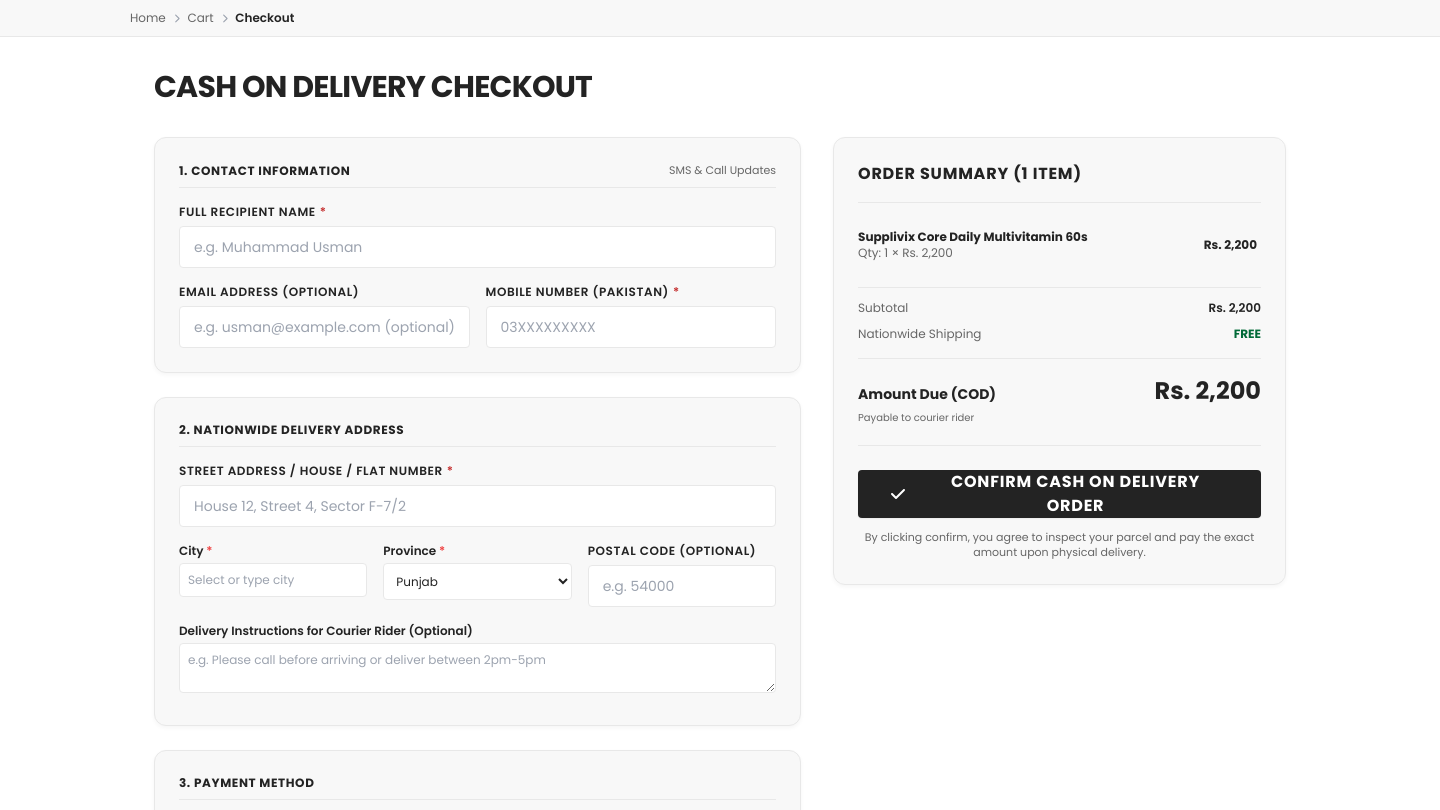
Scenario: Phase 9: Cart, Shipping, Coupon & COD Component Suite › COD-01 & COD-09: CheckoutPage submits order with COD notice and displays confirmation
Expected: the heading "Cash on Delivery Checkout" is shown, x1=154 y1=66 x2=592 y2=108
Fill valid checkout form
Type "Bilal Farooq" into the field labelled "Full Recipient Name*". click: (478, 247)
box: x1=179 y1=226 x2=776 y2=268
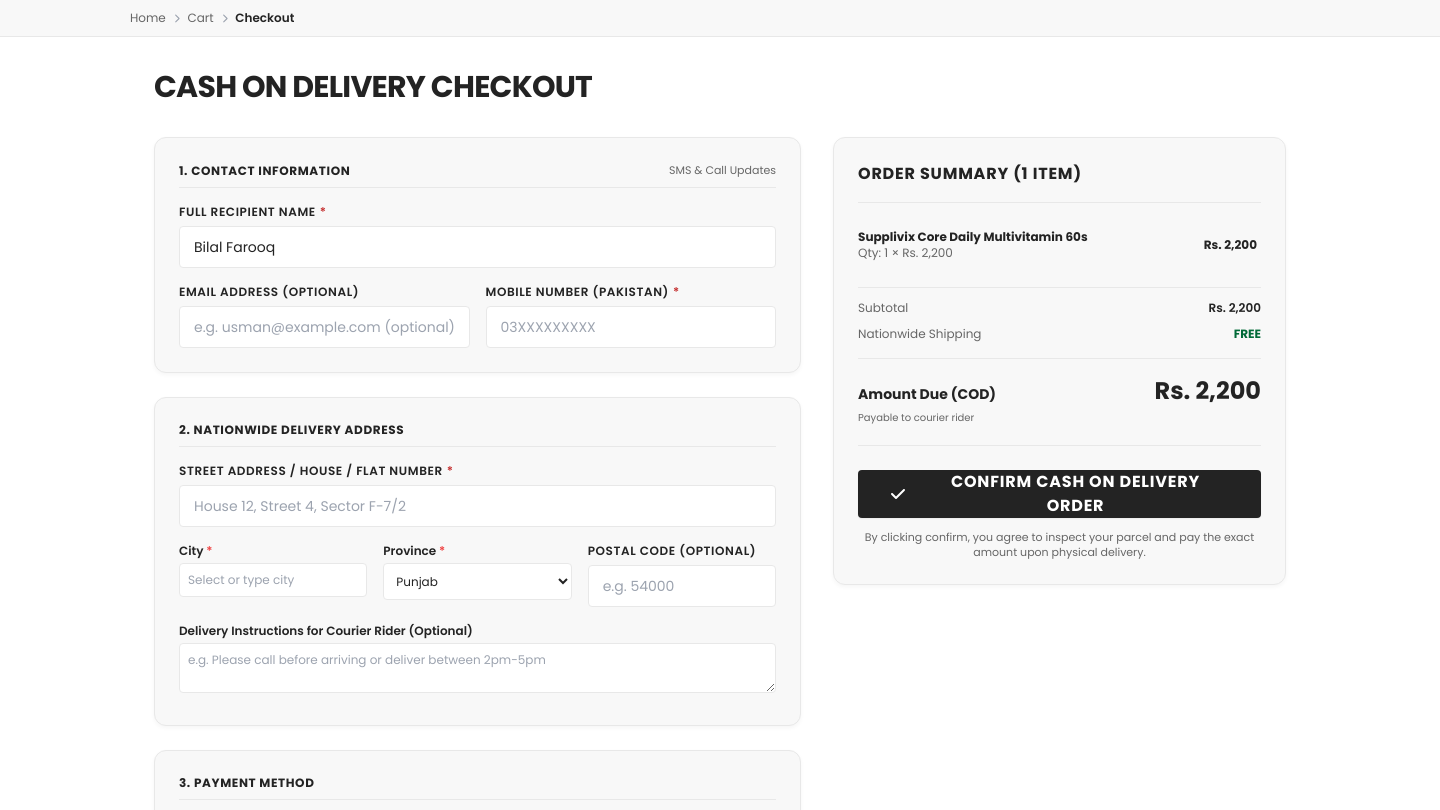
Type "bilal@example.com" into the field labelled "Email Address (Optional)". click: (324, 327)
box: x1=179 y1=306 x2=470 y2=348
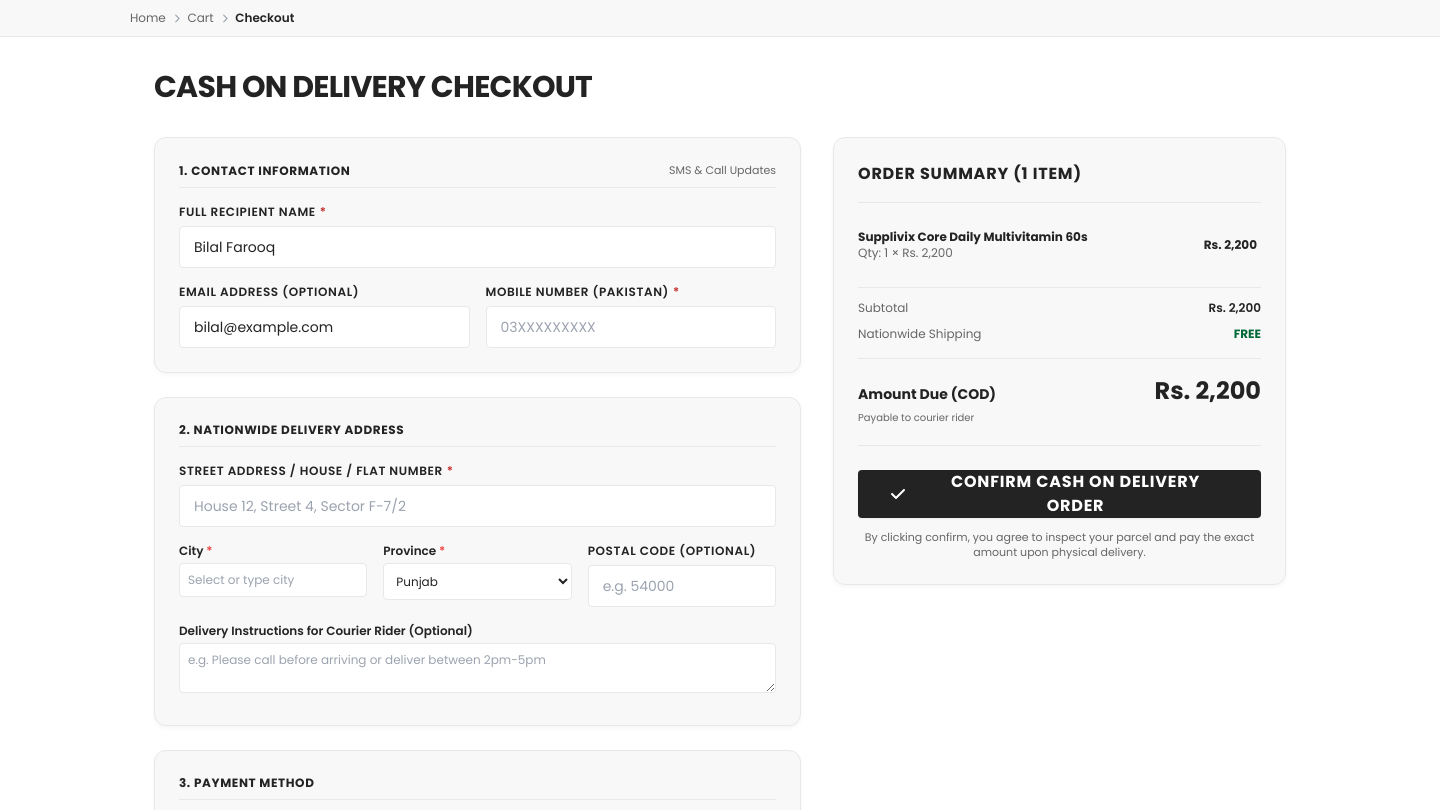
Type "03001234567" into the field labelled "Mobile Number (Pakistan)*". click: (631, 327)
box: x1=486 y1=306 x2=776 y2=348
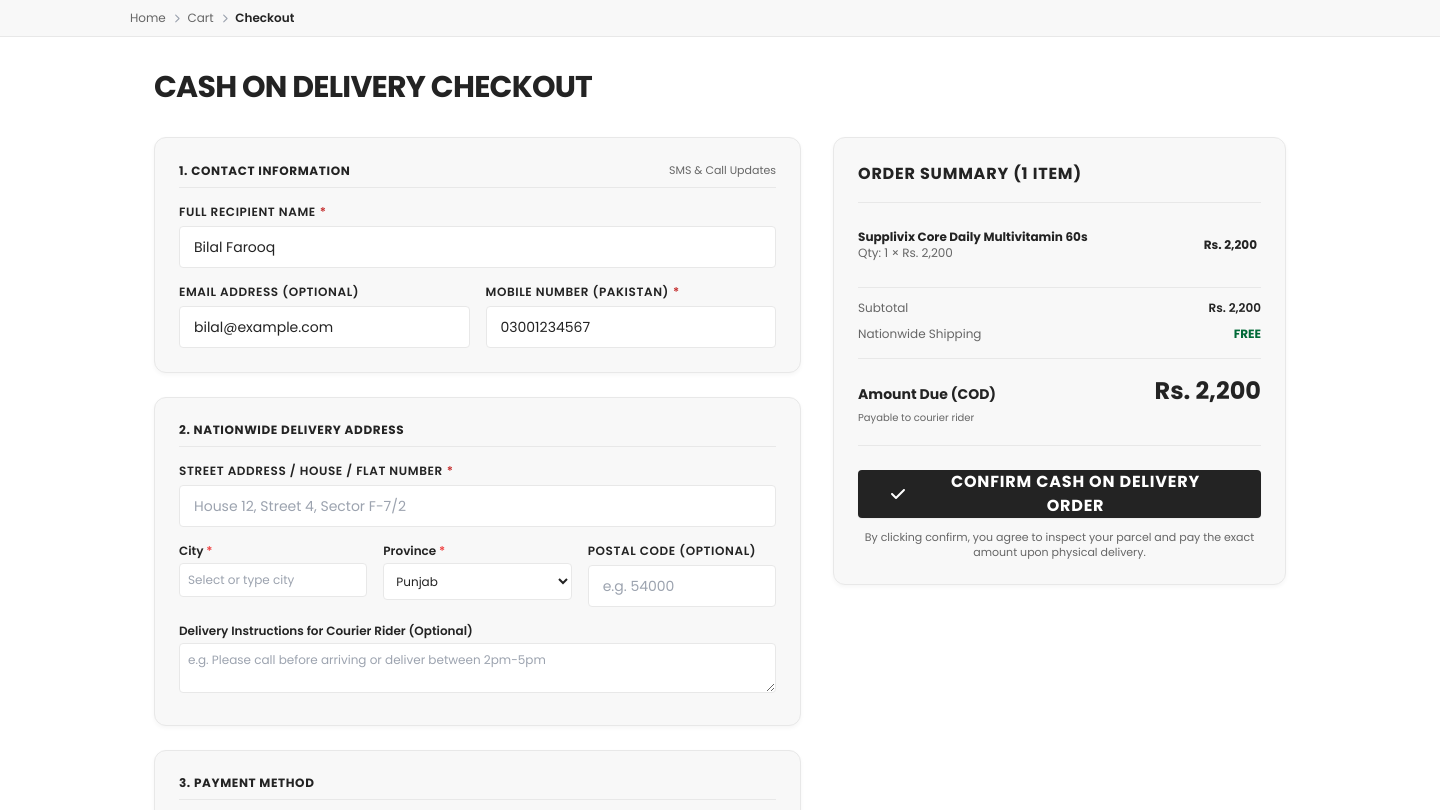
Type "House 14B, Street 9, Sector F-8" into the field labelled "Street Address / House / Flat Number*". click: (478, 506)
box: x1=179 y1=485 x2=776 y2=527
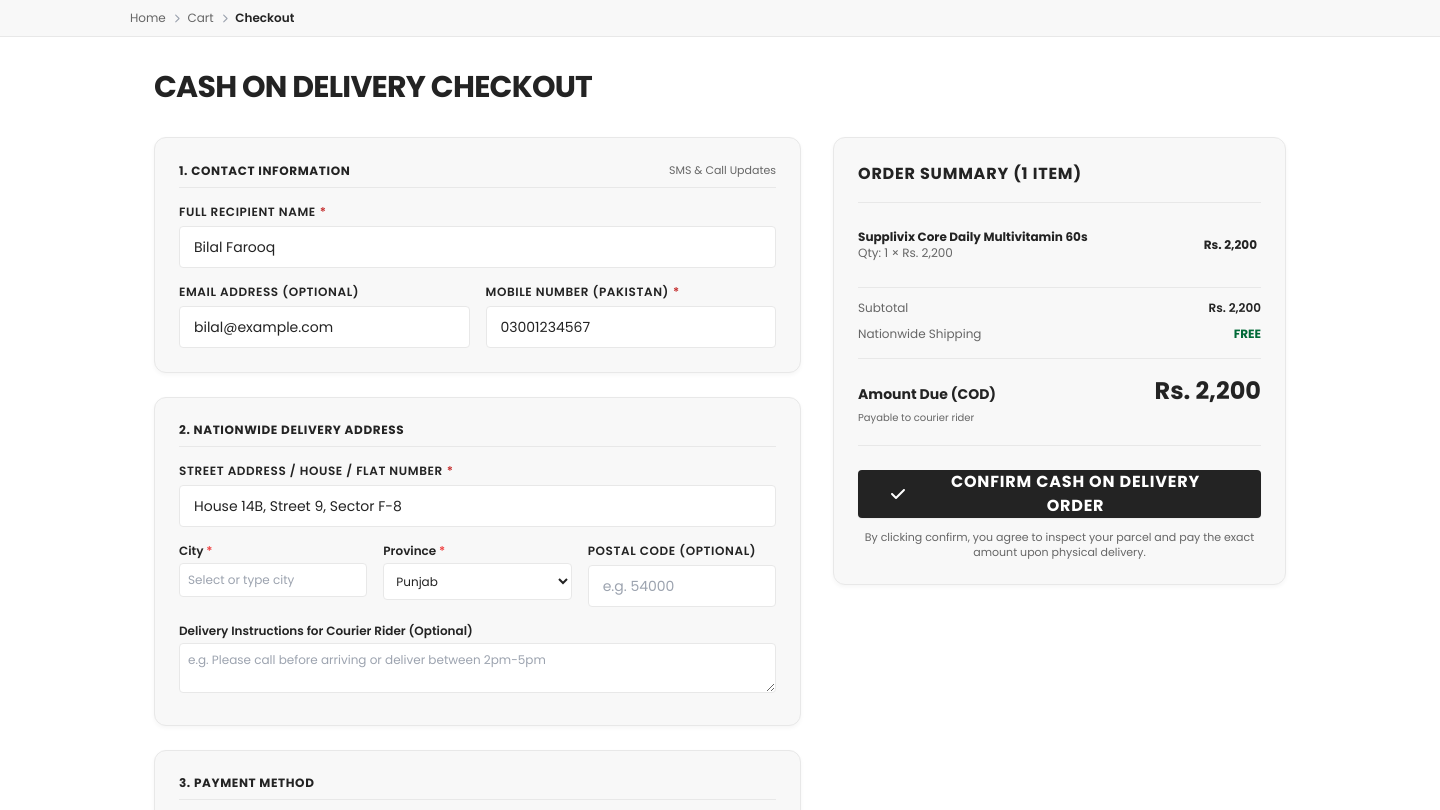
Type "Islamabad" into the field with placeholder "Select or type city". click: (273, 580)
box: x1=179 y1=563 x2=367 y2=597
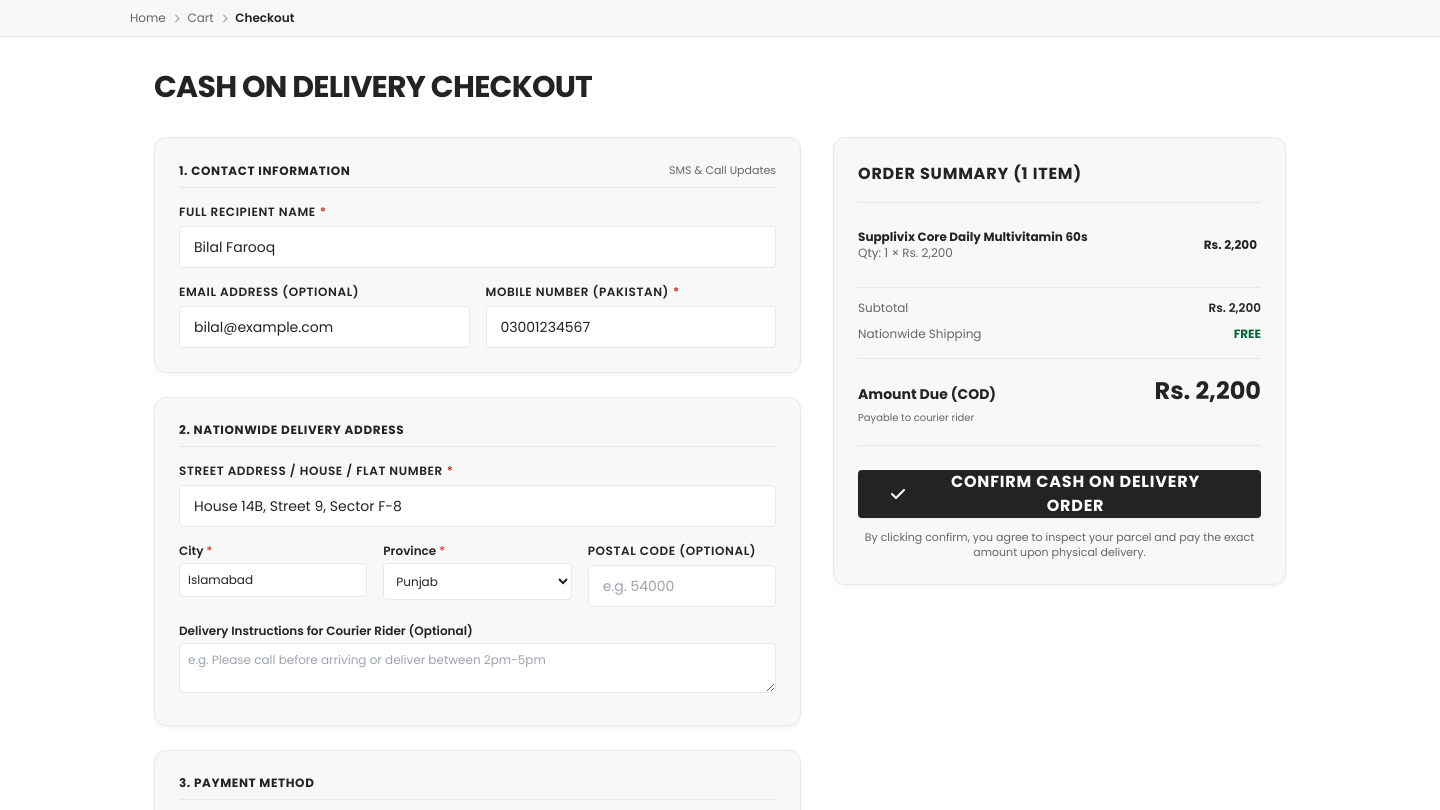
Click the button "Confirm Cash on Delivery Order". click: (1060, 494)
box: x1=858 y1=470 x2=1261 y2=518
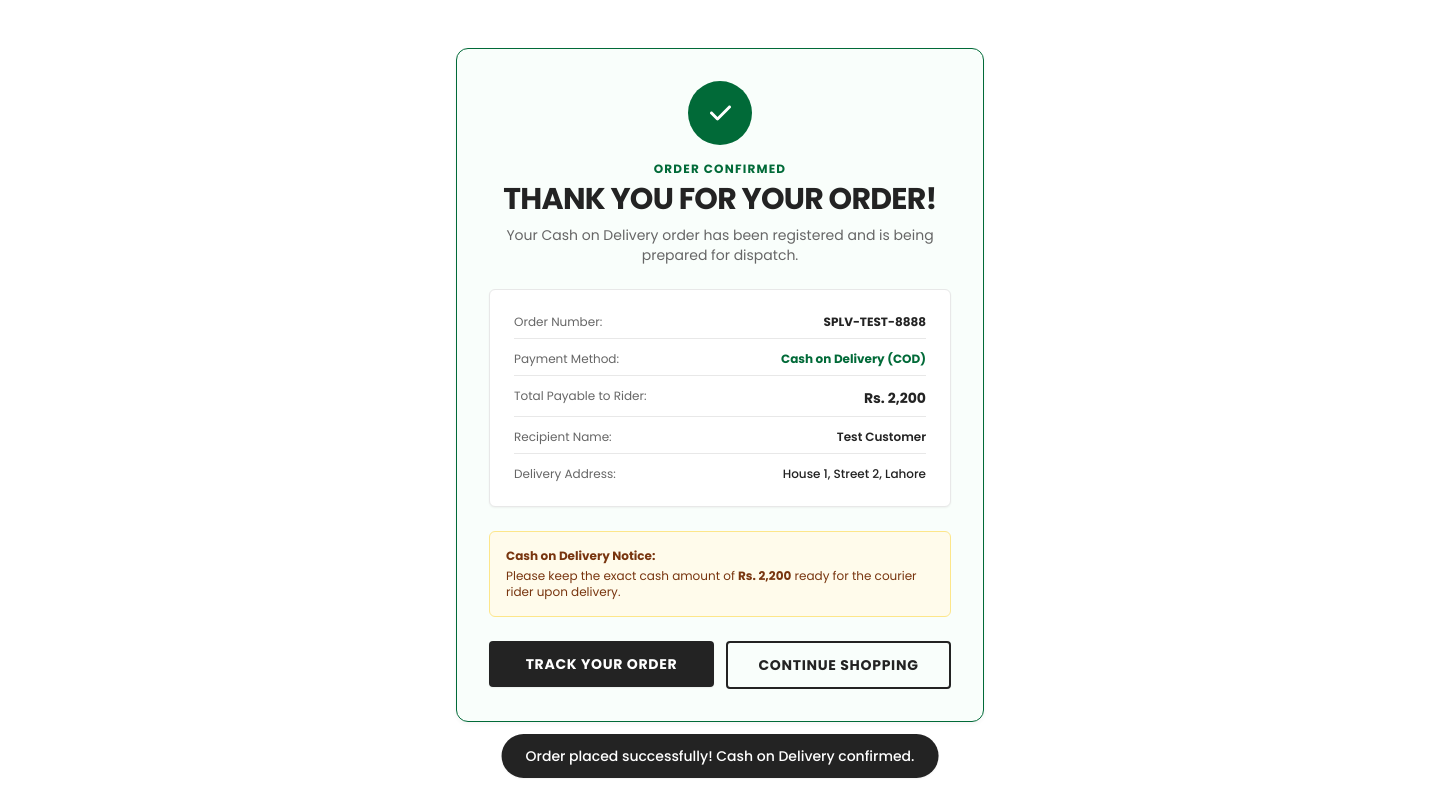
Expected: the heading "Thank You For Your Order!" is shown, x1=489 y1=181 x2=951 y2=217
Expected: the text "SPLV-TEST-8888" is shown, x1=824 y1=314 x2=926 y2=330
Expected: the text "Cash on Delivery Notice:" is shown, x1=506 y1=547 x2=655 y2=564
